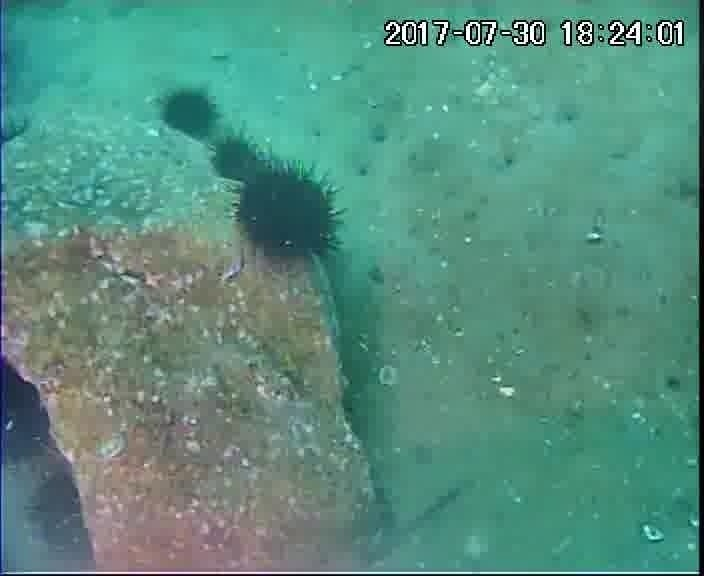echinus: (231, 162, 344, 268), (21, 466, 99, 569), (4, 354, 56, 463), (156, 84, 223, 143), (206, 132, 270, 190)
